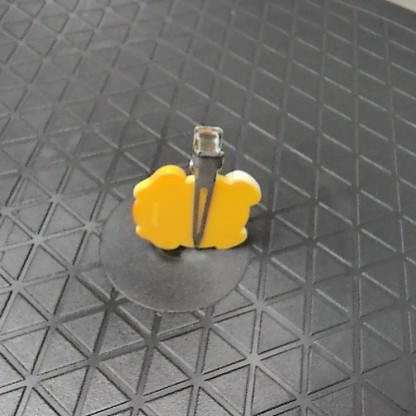dogclip: (125, 120, 261, 253)
